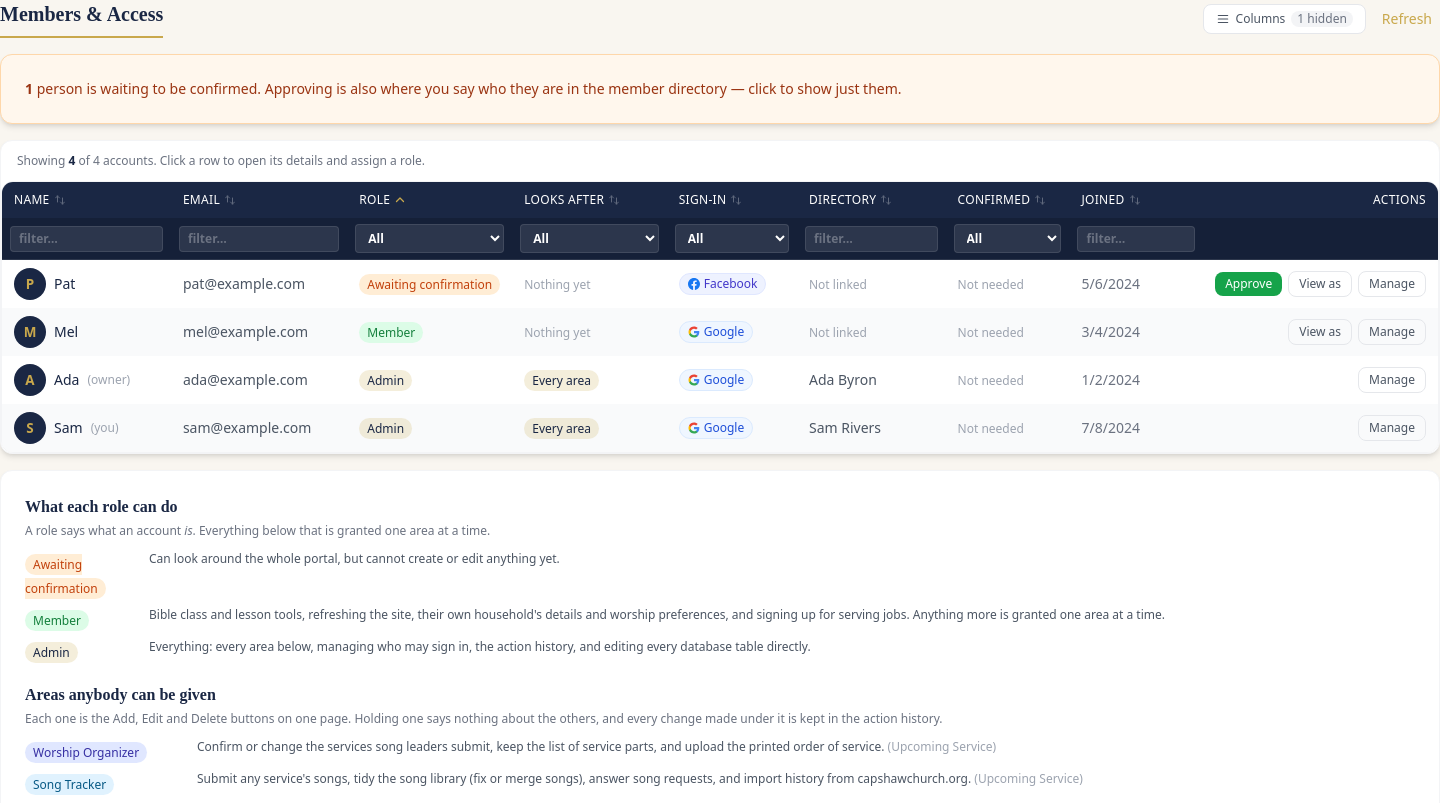
UsersView grid — filtering › a text column filter narrows the rows
Expected: the button with aria-label "Manage Ada" is shown, [1358, 367, 1426, 393]
Type "me" into the field named "Filter by Name".
click(86, 238); type("me")  # box [10, 226, 163, 252]
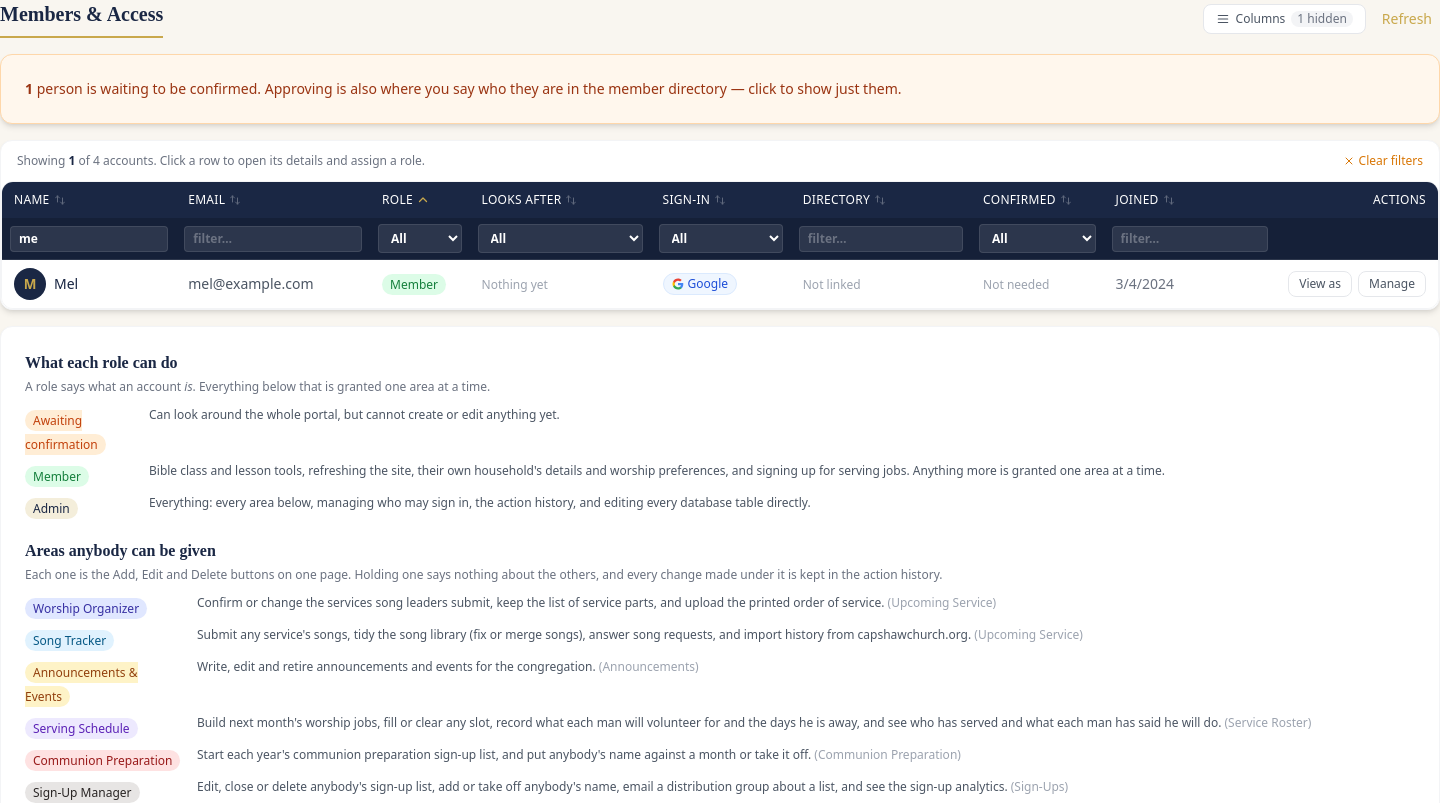
Result: the text "Showing" shows "Showing 1 of 4 accounts" at [17, 153, 425, 169]
